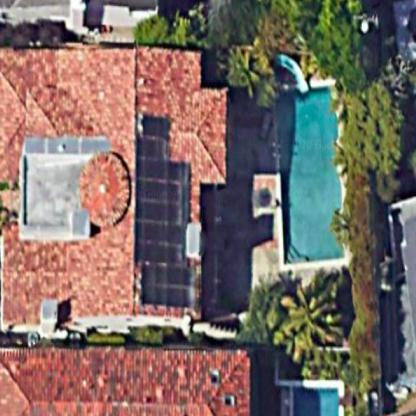solar_panel: (124, 105, 201, 315)
swimming_pool: (256, 55, 360, 285), (262, 366, 351, 416)
